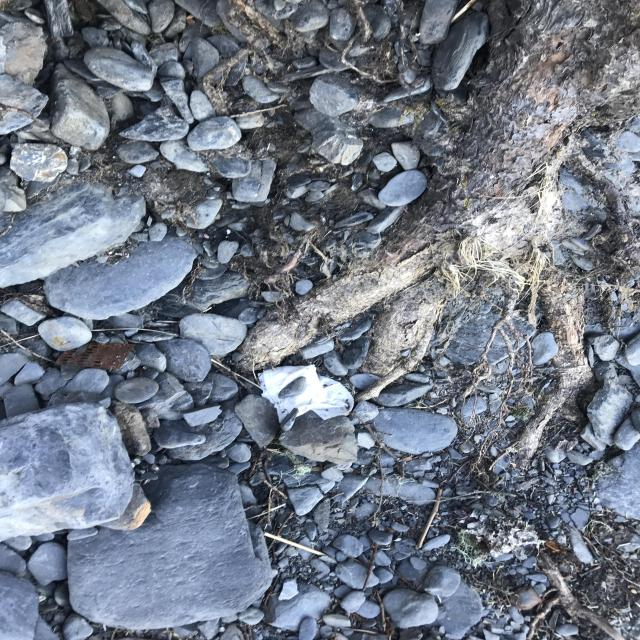litter: (486, 214, 564, 286)
